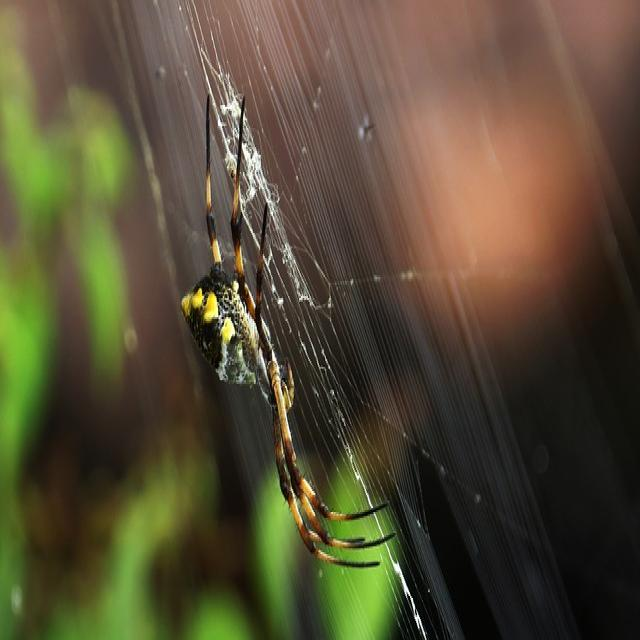spyder: (182, 98, 392, 567)
